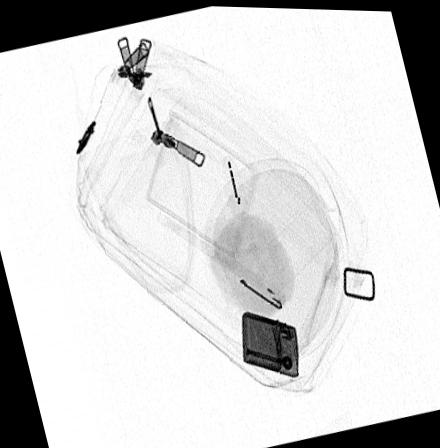Lighter: (240, 310, 298, 376)
